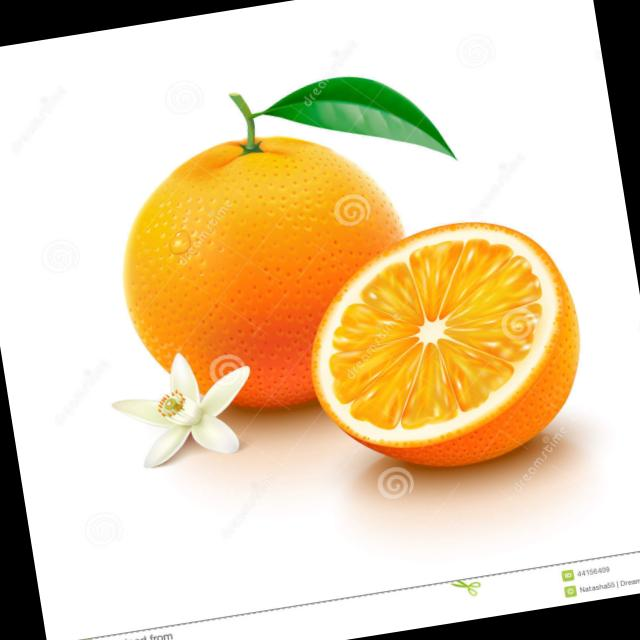orange: (100, 114, 438, 438)
